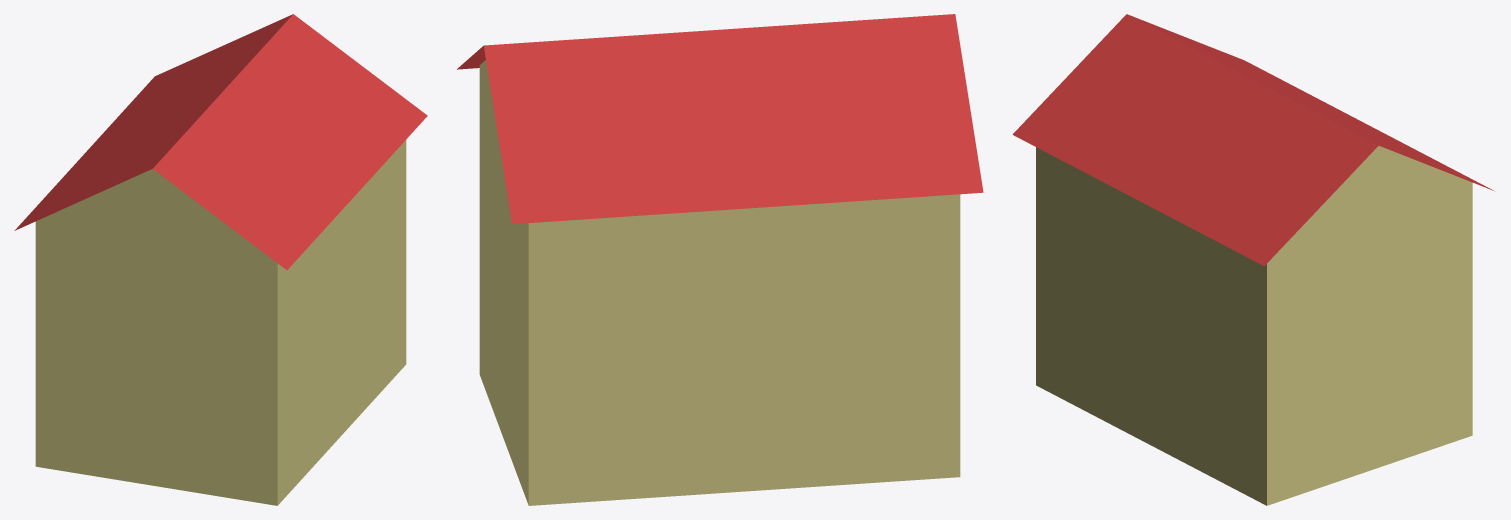
The picture shows the model from 3 angles, left to right: view 1: azimuth 30°, elevation 25°; view 2: azimuth 150°, elevation 25°; view 3: azimuth 270°, elevation 25°; orthographic projection. The views are drawn at different scales.
Bounding box in the file's own units: 14.72 × 14.28 × 10.78.
